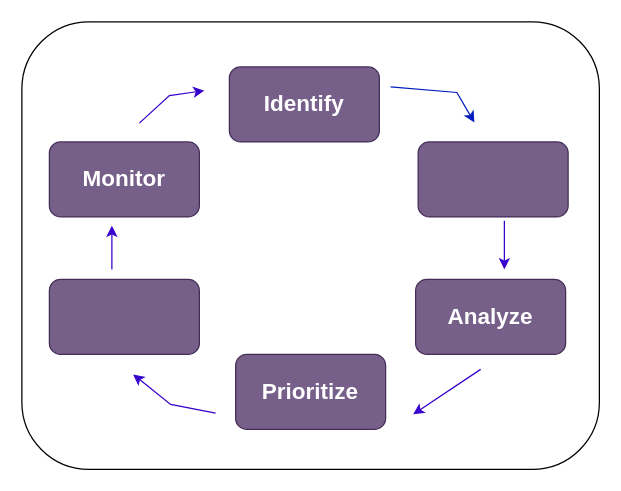
Image size: 621x491. Some labels were removed from this diagram. The shapes that lost their labels are listed below. From the top down, each one's centre as x and y in pixels, then its label:
point (492, 179): Understand
point (123, 316): Engage
